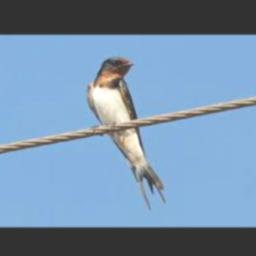Swallow: (87, 56, 166, 209)
